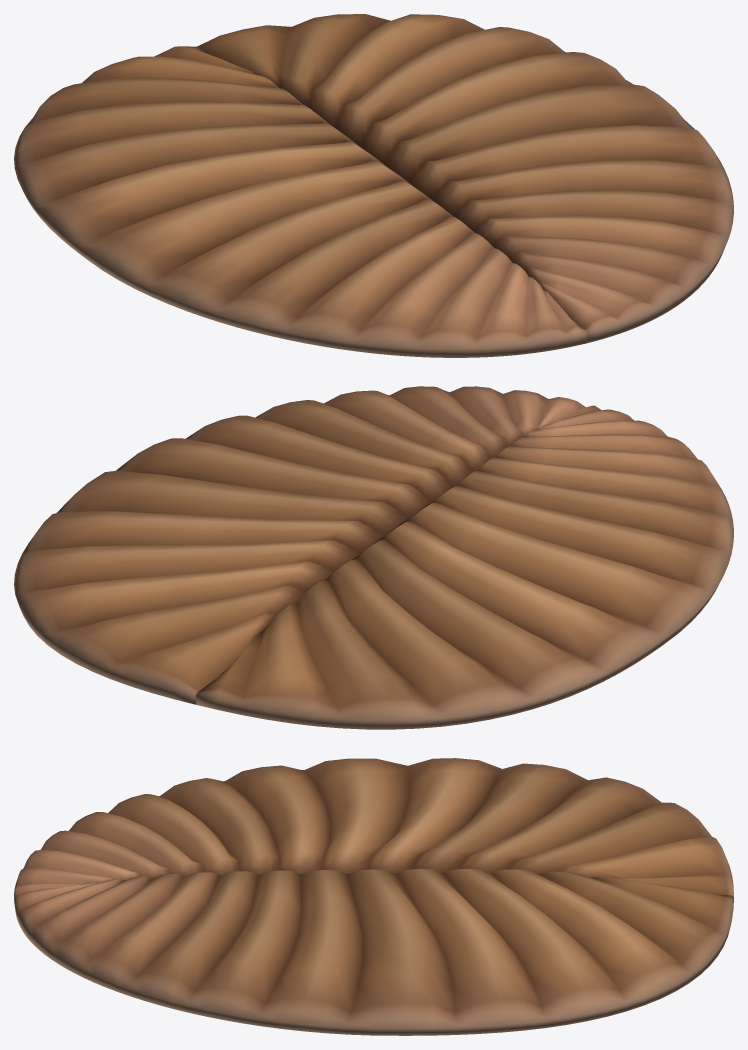
Rendered from DickinsoniaMenneri.fbx.
3 views of the same model, one above another, from view 1: azimuth 30°, elevation 25°; view 2: azimuth 150°, elevation 25°; view 3: azimuth 270°, elevation 25° (orthographic). The views are drawn at different scales.
Parts seen in each view (by area): view 1: DickinsoniaMenneri; view 2: DickinsoniaMenneri; view 3: DickinsoniaMenneri.
Boxes of the visible parts, x1=… form: DickinsoniaMenneri: x1=14, y1=14, x2=733, y2=357; DickinsoniaMenneri: x1=14, y1=386, x2=733, y2=729; DickinsoniaMenneri: x1=14, y1=758, x2=733, y2=1035.
Size of the model in its own units: 1.28 by 0.1049 by 1.48.
